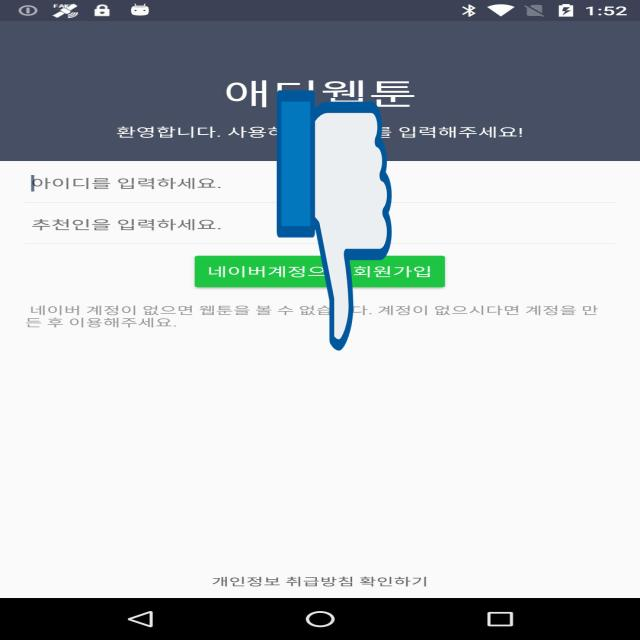obstruction: (276, 85, 392, 356)
